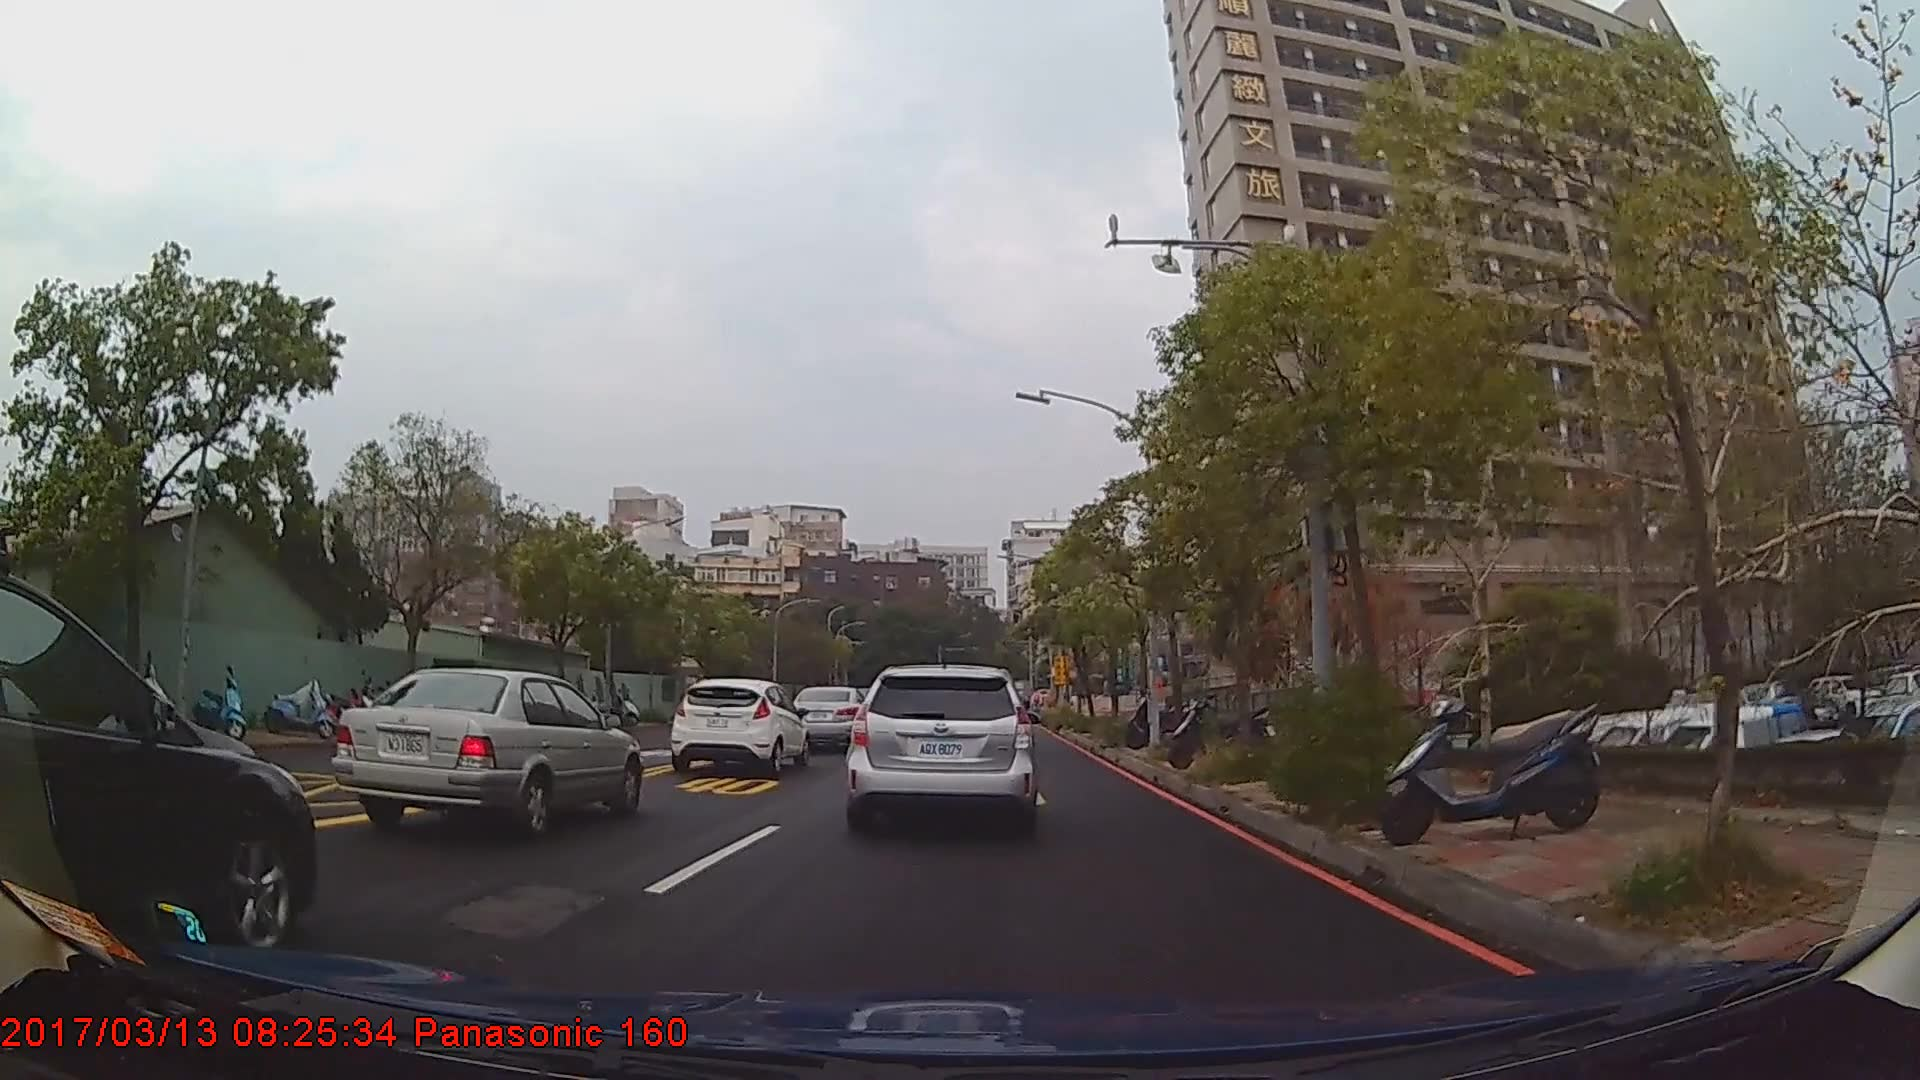vehicle: (0, 572, 316, 971), (330, 666, 644, 839), (843, 663, 1034, 828), (667, 676, 807, 774), (789, 684, 872, 746)
